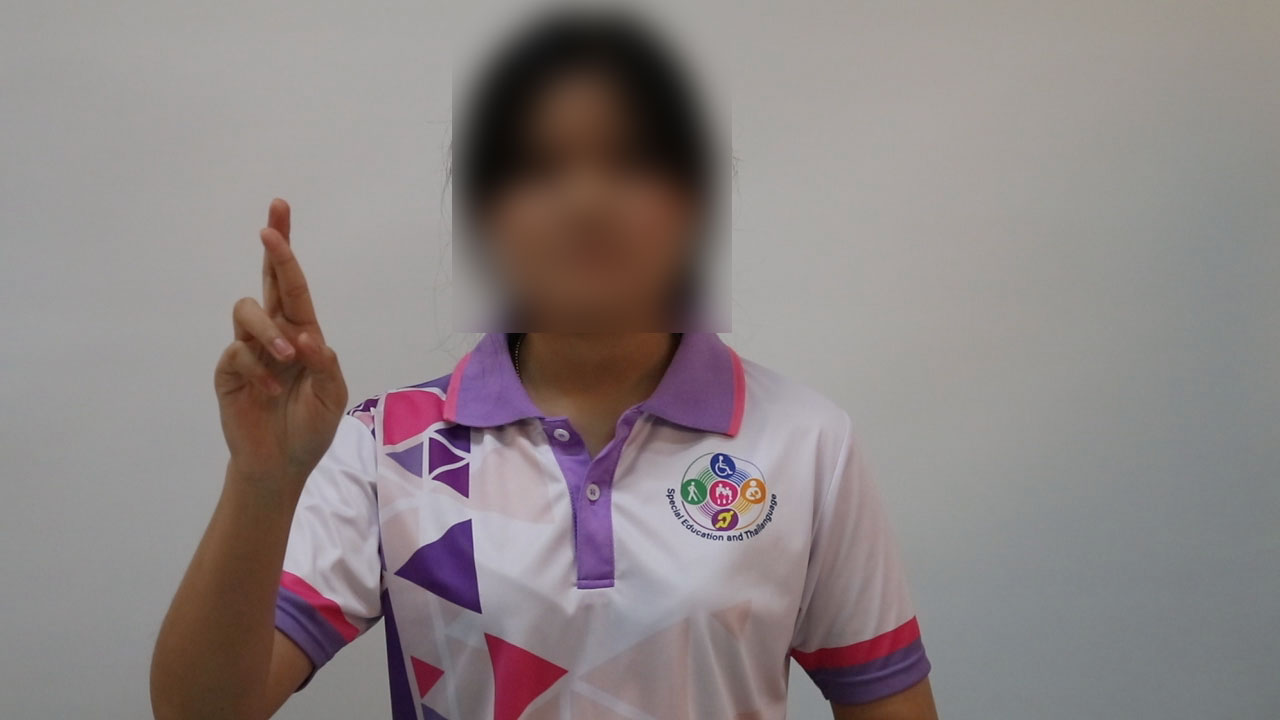rao: (180, 192, 357, 490)
